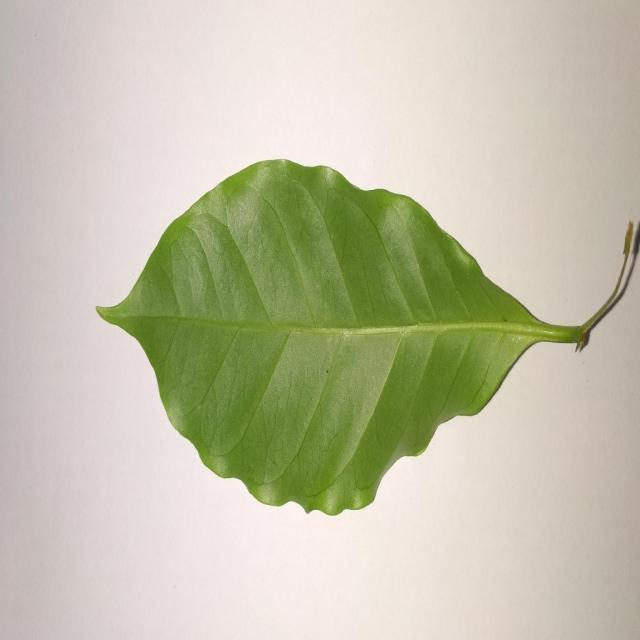Sanas: (95, 159, 628, 519)
